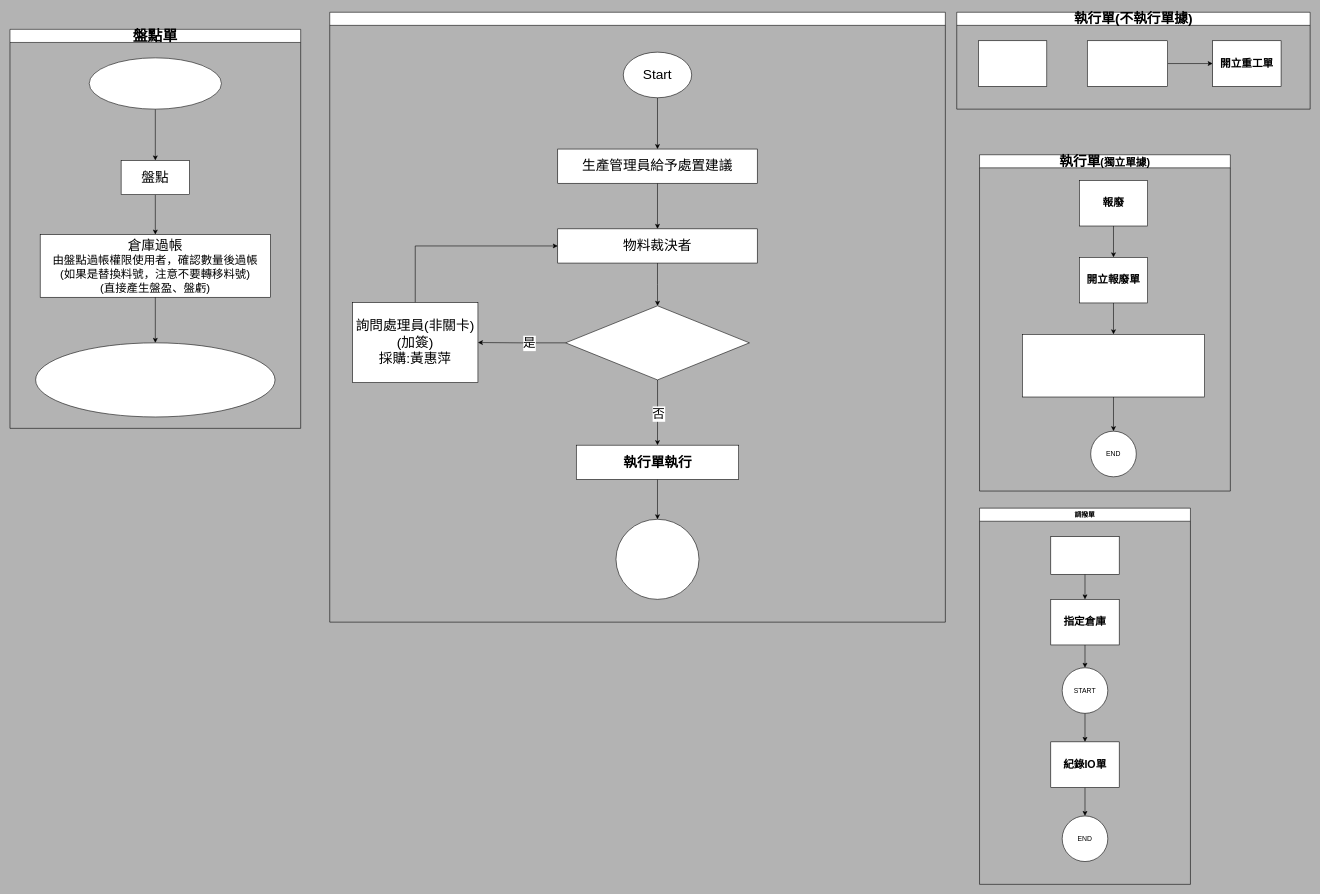
Image size: 1320x894. Some labels were removed from this diagram. Each missing label, with the box of its shape:
END (同時間觸發處置單): (35, 342, 275, 417)
Start 發起人:物料管理員: (89, 57, 221, 109)
保留: (978, 40, 1047, 86)
是否發起疑問查詢(可駁回): (565, 305, 749, 380)
業務通知 (移除DM和相關通路商品): (1022, 334, 1205, 397)
結案: (615, 519, 699, 599)
處置單: (329, 12, 945, 622)
選擇料號: (1050, 536, 1119, 574)
重工單人員: (1087, 40, 1168, 86)
